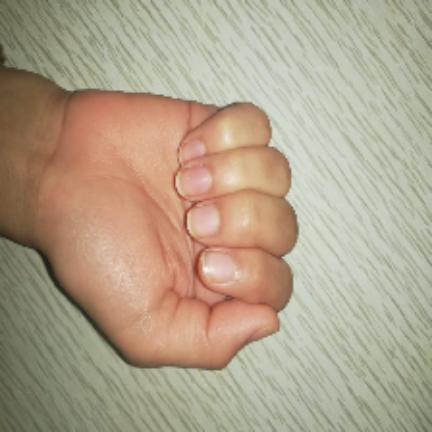Nail: (174, 165, 214, 197), (202, 251, 235, 284), (186, 207, 221, 238), (177, 138, 206, 162), (250, 325, 278, 342)
